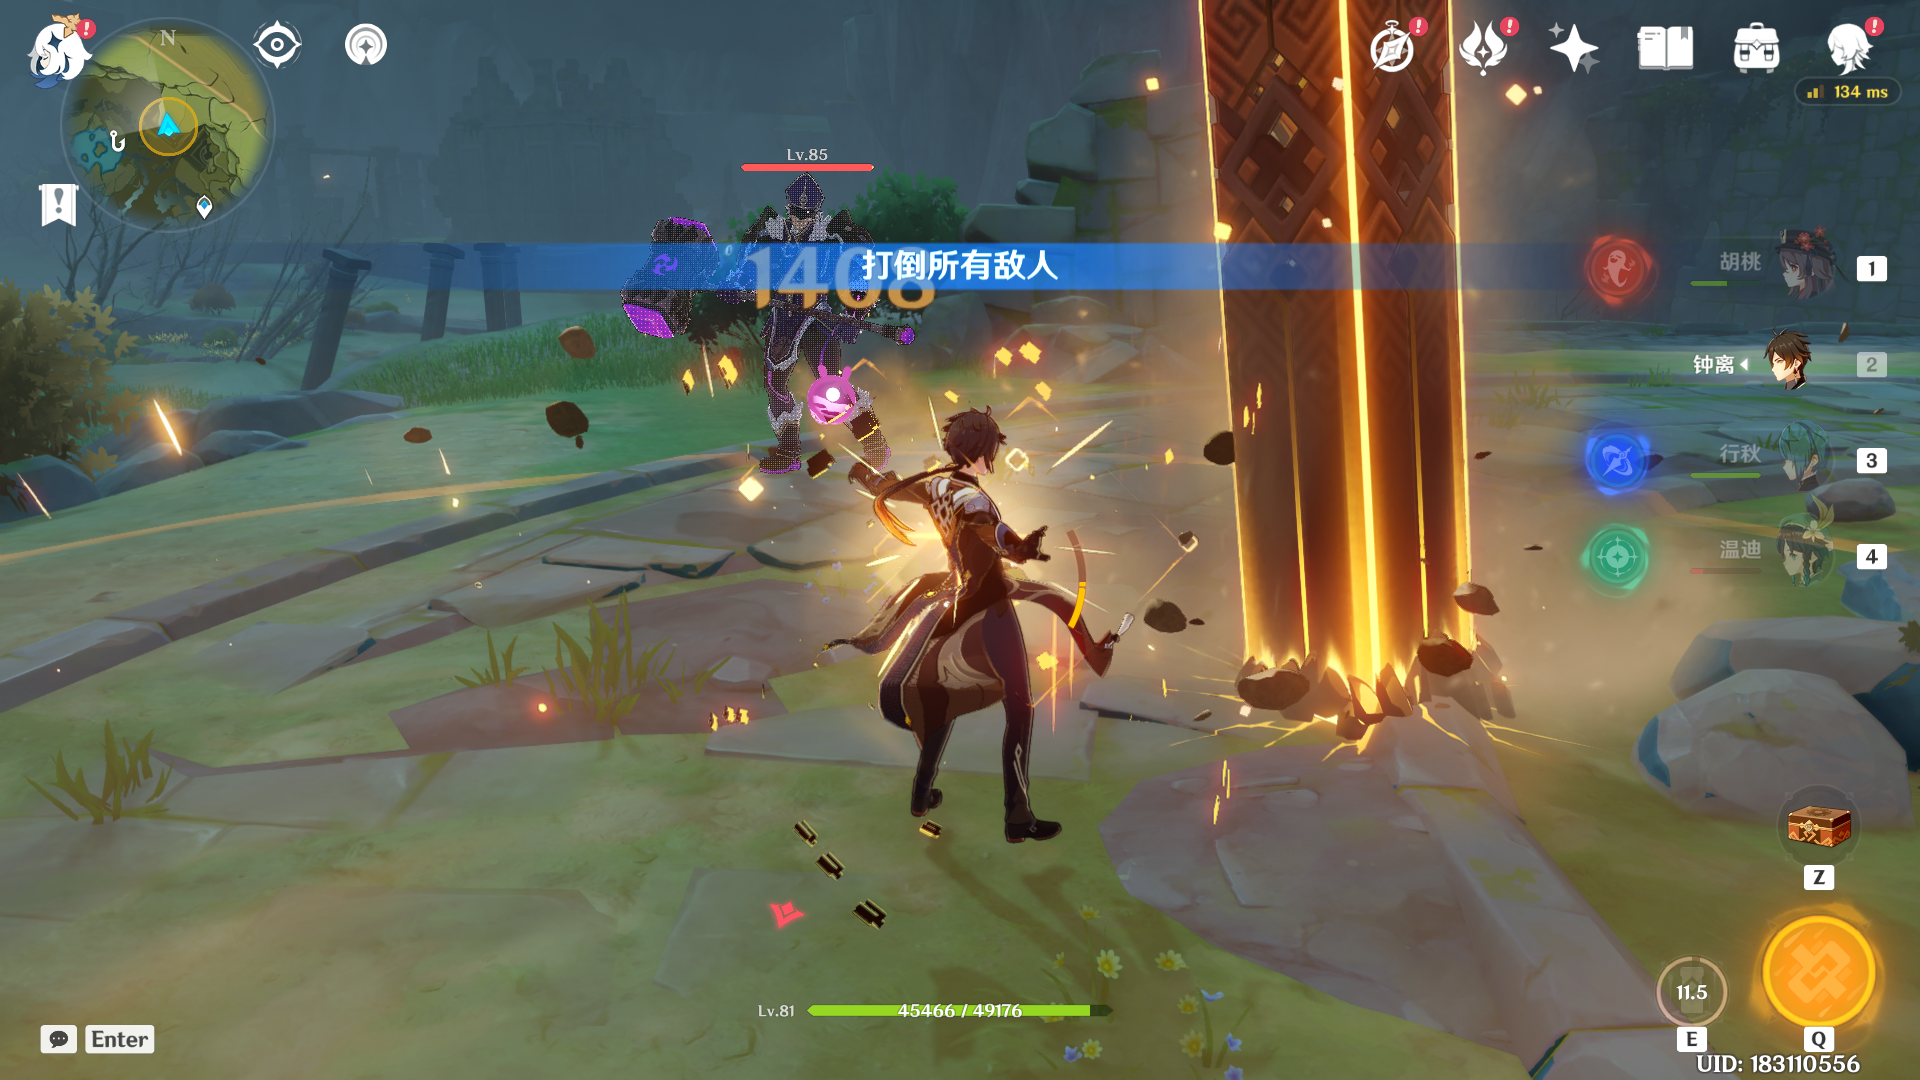character: (796, 367, 1151, 878)
